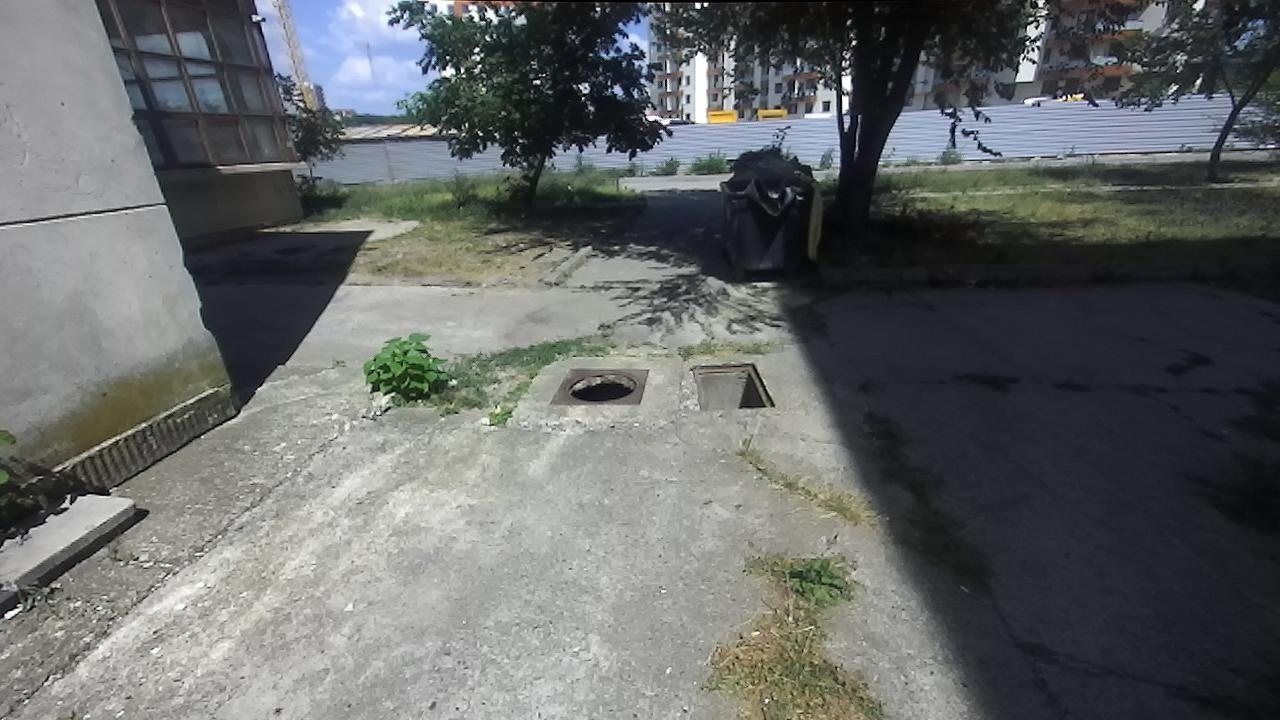drain: (691, 362, 777, 412), (564, 369, 642, 402)
